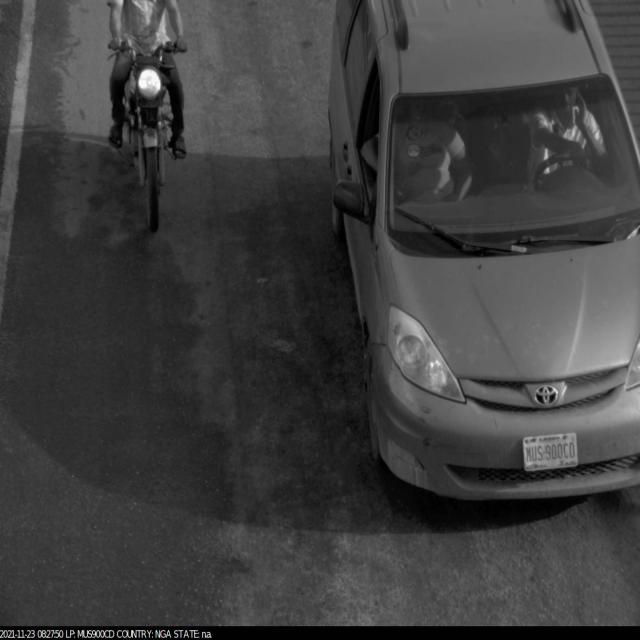windshield: (378, 73, 640, 273)
